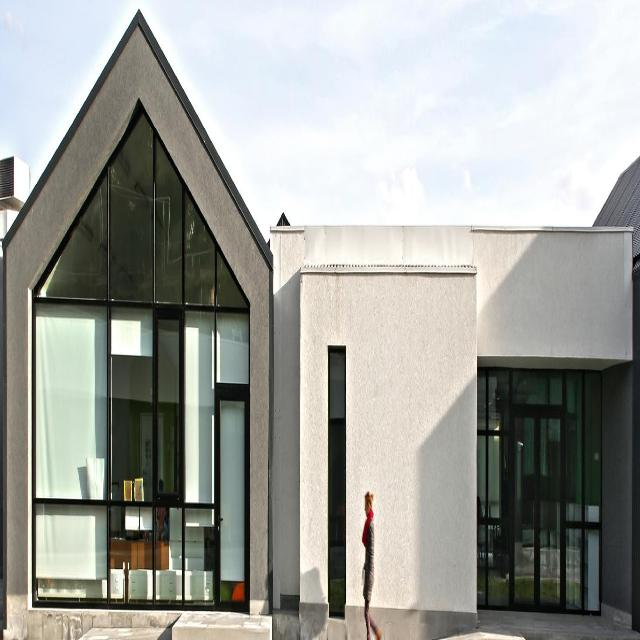door: (508, 407, 567, 609), (213, 383, 250, 617)
window: (32, 102, 250, 608), (477, 364, 603, 610), (328, 350, 347, 620)
